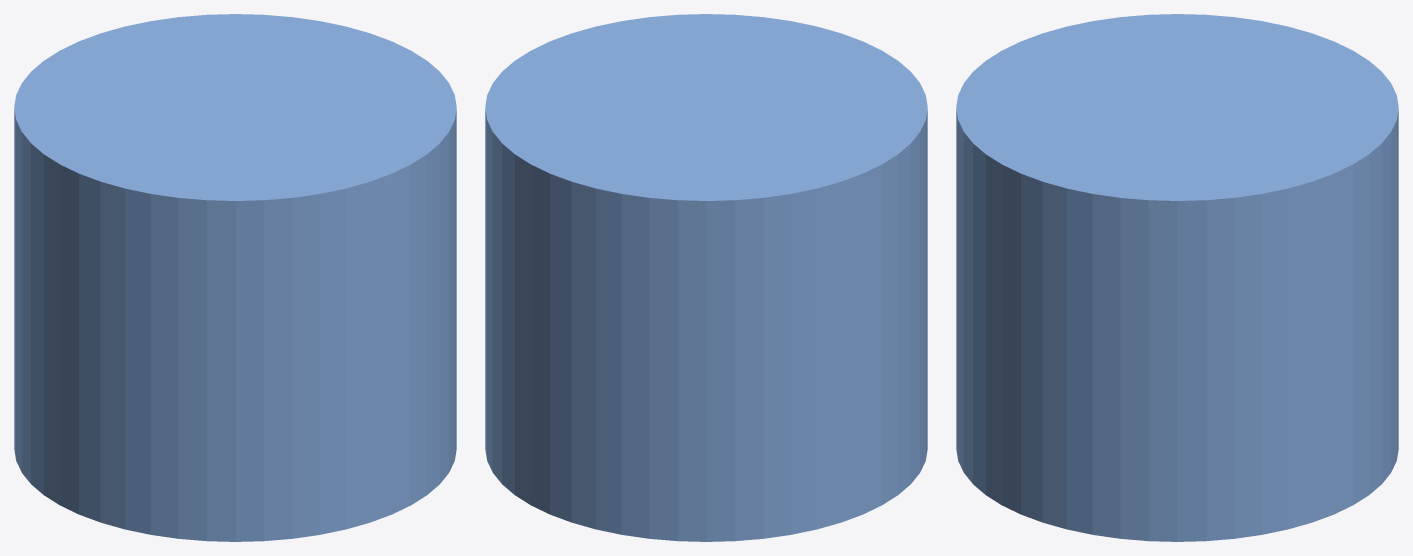
The picture shows the model from 3 angles, left to right: view 1: azimuth 30°, elevation 25°; view 2: azimuth 150°, elevation 25°; view 3: azimuth 270°, elevation 25°; orthographic projection.
Parts seen in each view (by area): view 1: world; view 2: world; view 3: world.
Boxes of the visible parts, x1,y1,x2,y2 form: world: (14, 14, 456, 541); world: (485, 14, 927, 541); world: (956, 14, 1398, 541).
Bounding box in the file's own units: 1 × 0.85 × 1.
